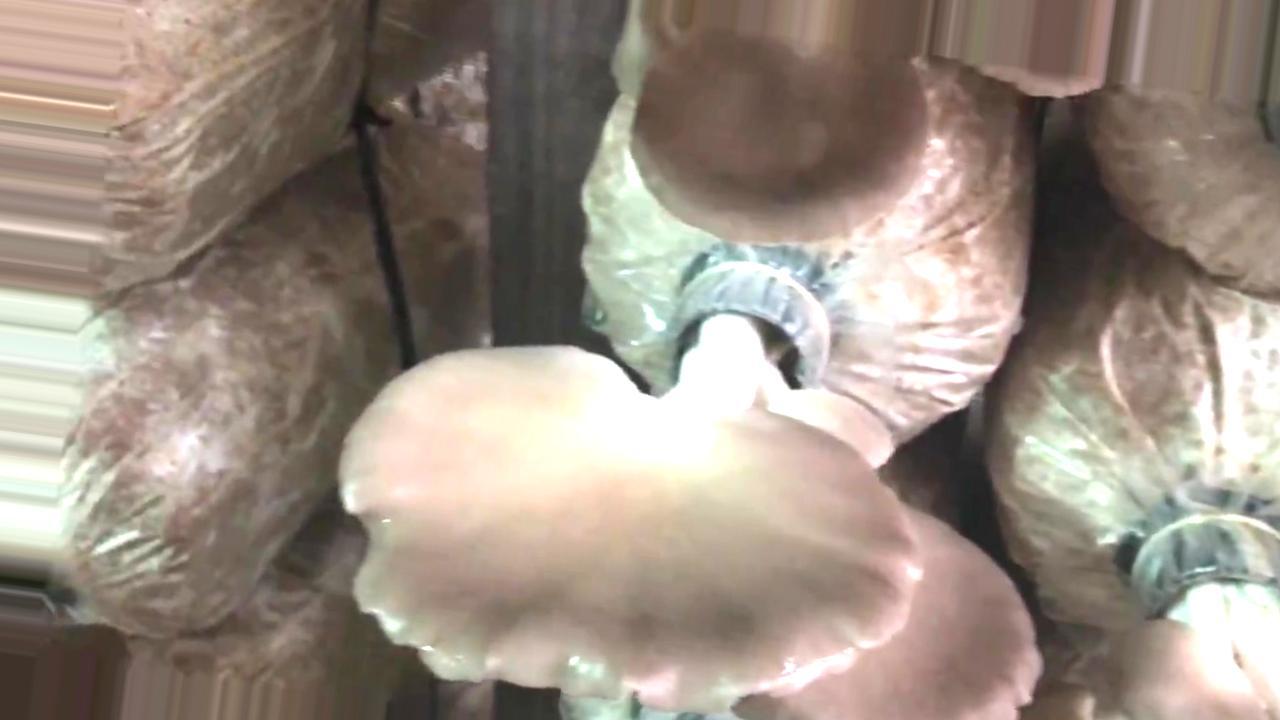nam: (338, 246, 921, 714), (736, 503, 1042, 720), (630, 38, 930, 249), (1028, 495, 1277, 720)
